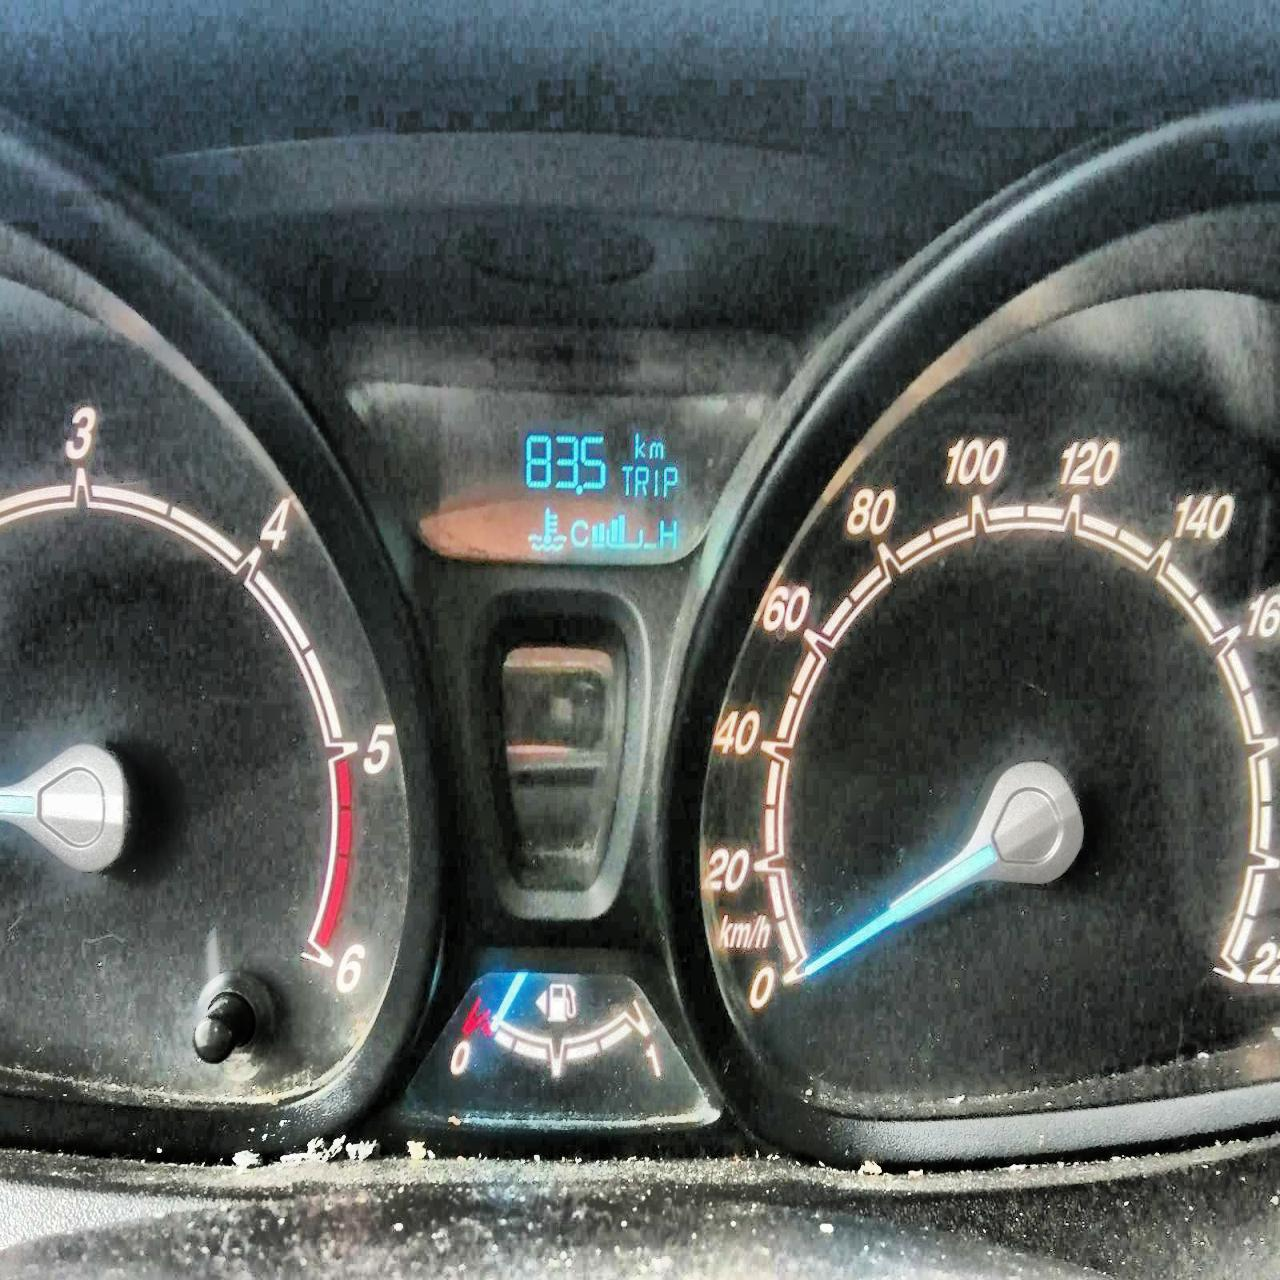-: (574, 481, 583, 497)
3: (553, 431, 579, 488)
5: (579, 431, 606, 491)
8: (524, 433, 552, 486)
X: (658, 517, 681, 550), (568, 516, 588, 549), (662, 465, 678, 499), (634, 463, 648, 497), (632, 427, 646, 459), (620, 463, 633, 495), (649, 435, 663, 461), (651, 467, 659, 497)
odometer: (462, 382, 700, 576)
